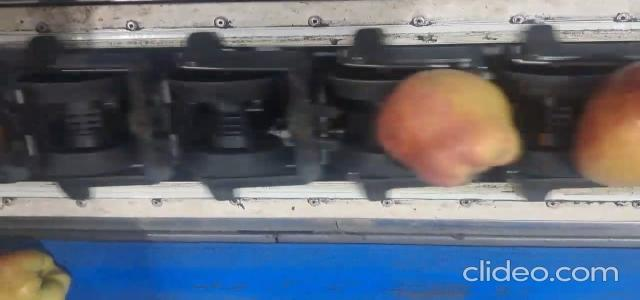apple: (378, 70, 521, 186), (575, 62, 640, 186)
